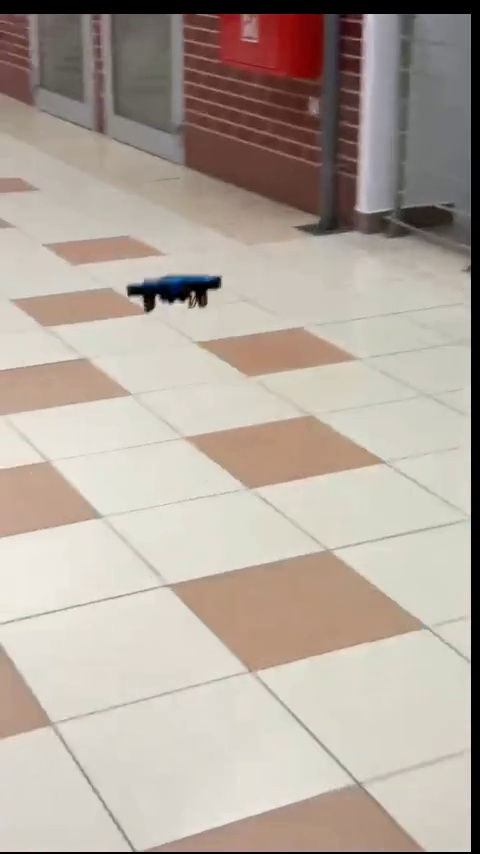drone: (125, 271, 224, 315)
